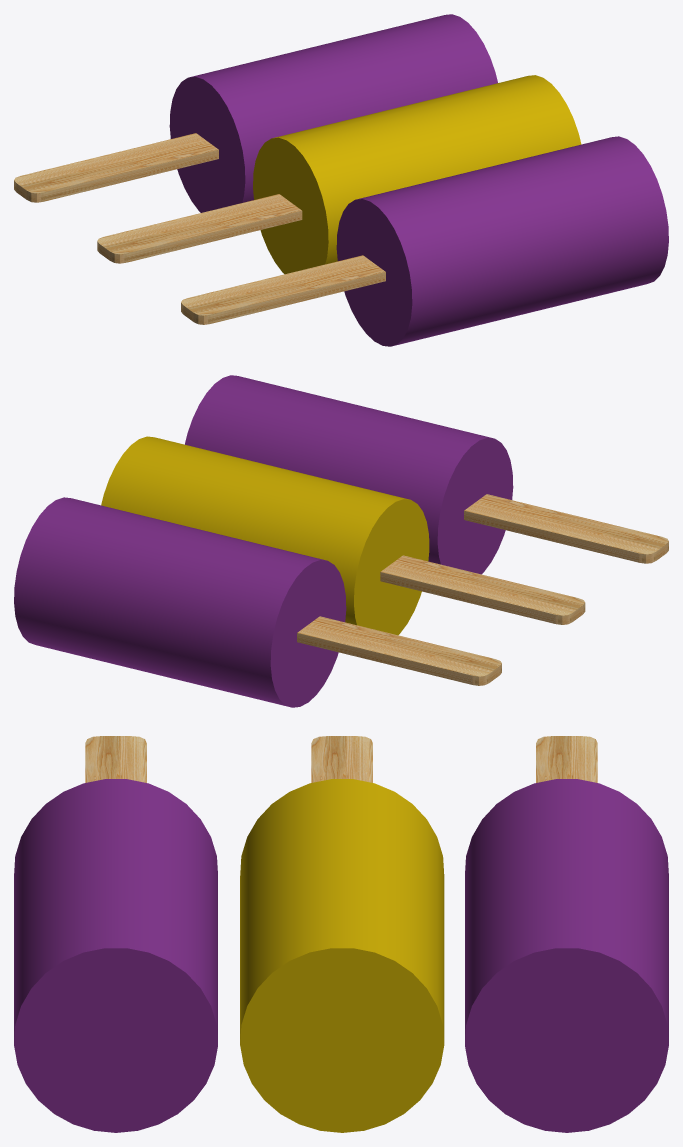
Rendered from ES LILIN.FBX.
3 views of the same model, one above another, from view 1: azimuth 30°, elevation 25°; view 2: azimuth 150°, elevation 25°; view 3: azimuth 270°, elevation 25° (orthographic). The views are drawn at different scales.
Visible parts, largest first — view 1: ES LILIN; view 2: ES LILIN; view 3: ES LILIN.
Boxes of the visible parts, <box> form: ES LILIN: <box>14,14,668,346</box>; ES LILIN: <box>14,375,668,707</box>; ES LILIN: <box>14,736,668,1132</box>.
Bounding box in the file's own units: 41.42 × 12.23 × 39.3.
3 materials, 1 textured.
